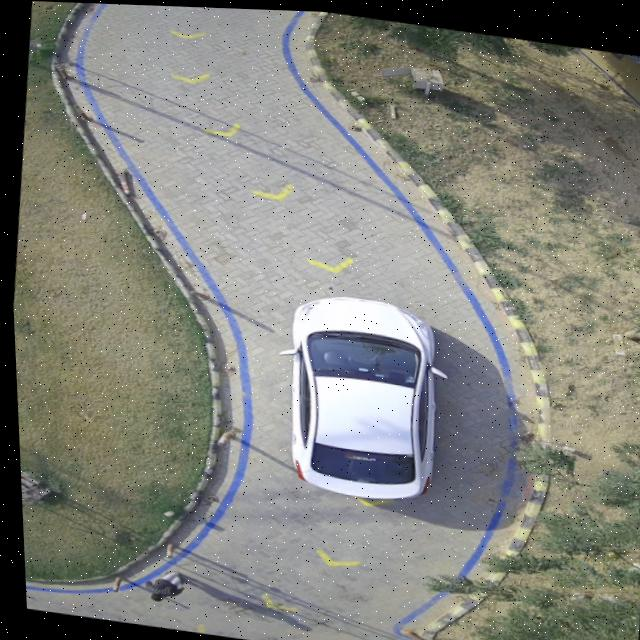car: (276, 293, 441, 494)
